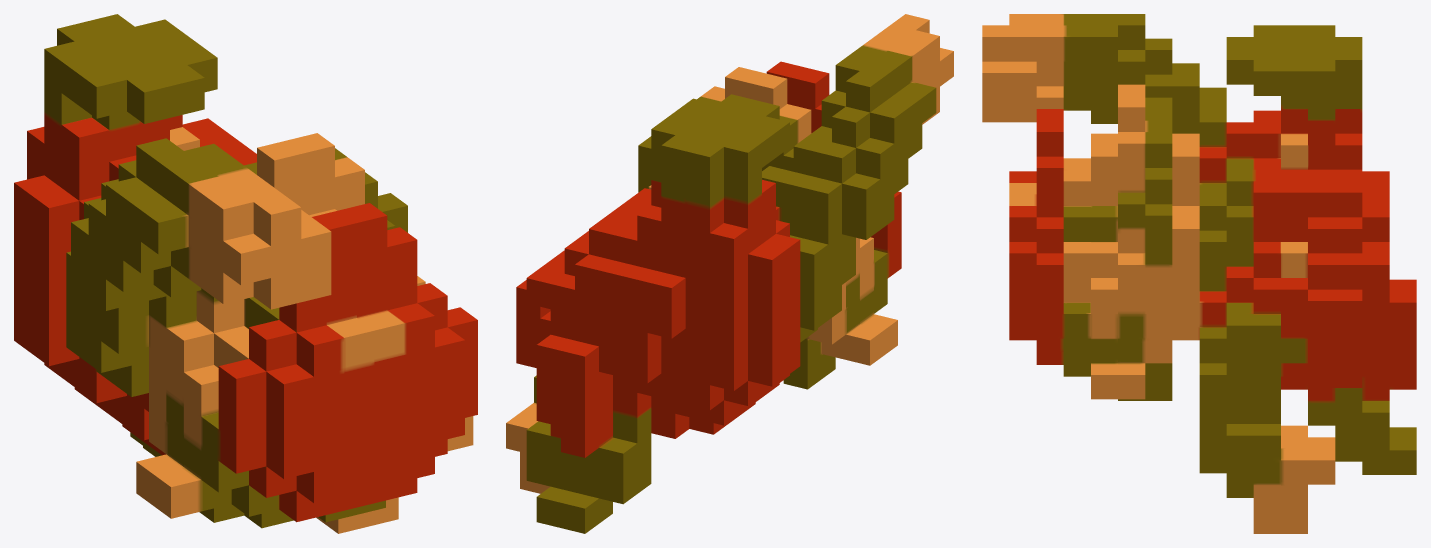
Rendered from mario_jump.obj.
The picture shows the model from 3 angles, left to right: view 1: azimuth 30°, elevation 25°; view 2: azimuth 150°, elevation 25°; view 3: azimuth 270°, elevation 25°; orthographic projection. The views are drawn at different scales.
Parts seen in each view (by area): view 1: mario_jump_star4; view 2: mario_jump_star4; view 3: mario_jump_star4.
Part boxes in pixels (x1,y1,x2,y2): mario_jump_star4: [14, 14, 477, 533]; mario_jump_star4: [506, 14, 953, 533]; mario_jump_star4: [982, 14, 1416, 533].
Bounding box in the file's own units: 120 × 160 × 160.
Materials: 1 (1 with a texture image).
